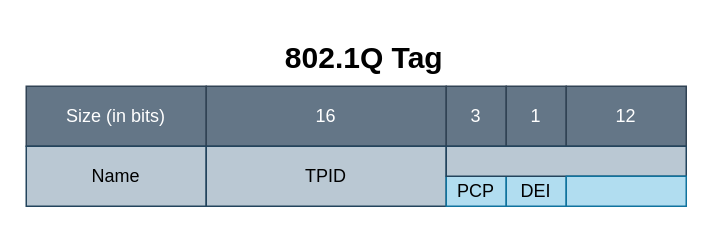
The diagram is 713 pixels wide and 233 high, and some of its shapes have lost their labels. Each missing label, with the centre of its shape:
"TIC" goes at (x=565, y=160).
"VID" goes at (x=625, y=190).
